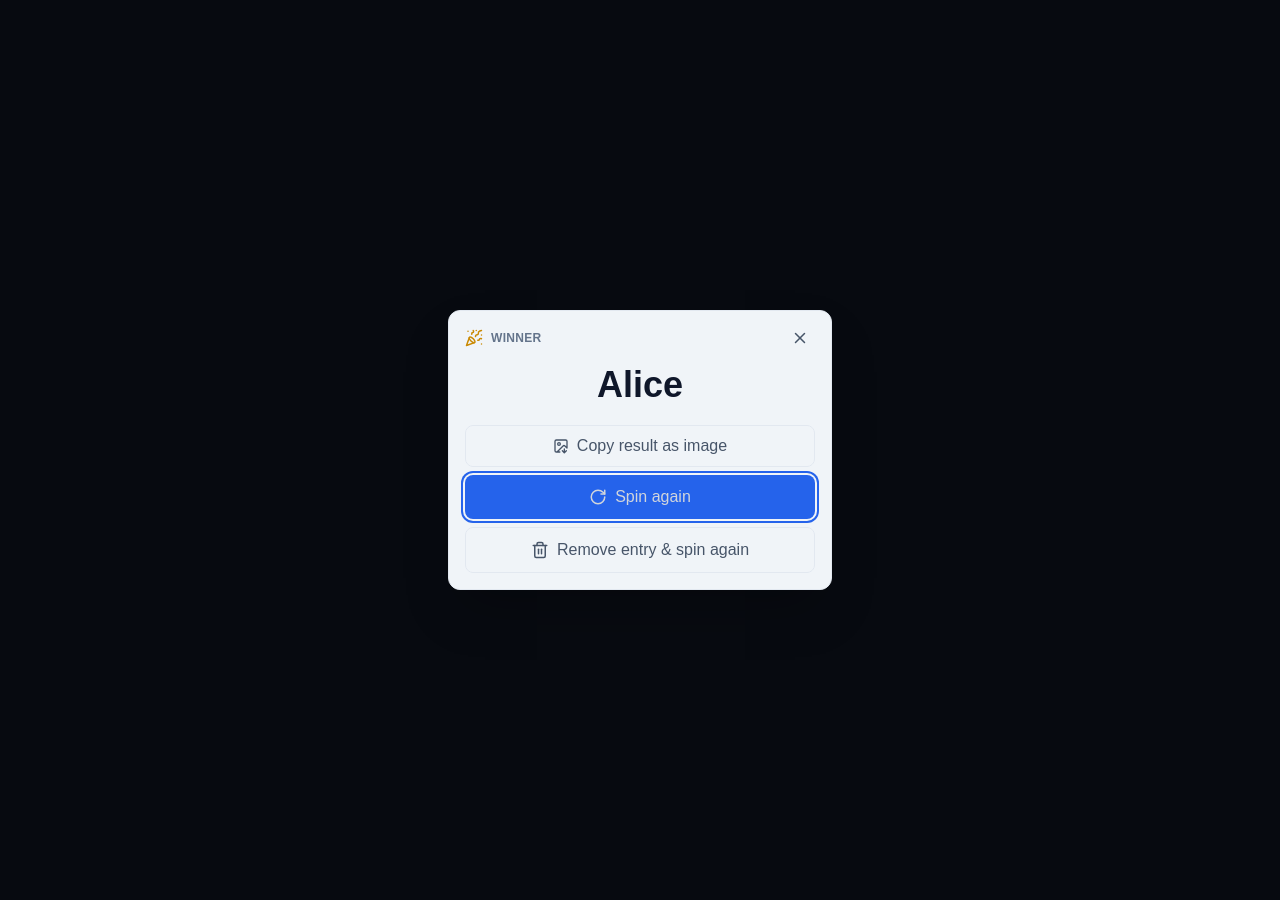
Test: WinnerModal › shows a failure message when the export fails
The width and height of the screenshot is (1280, 900).
Click the button "Copy result as image": (640, 446) x1=465 y1=425 x2=815 y2=467
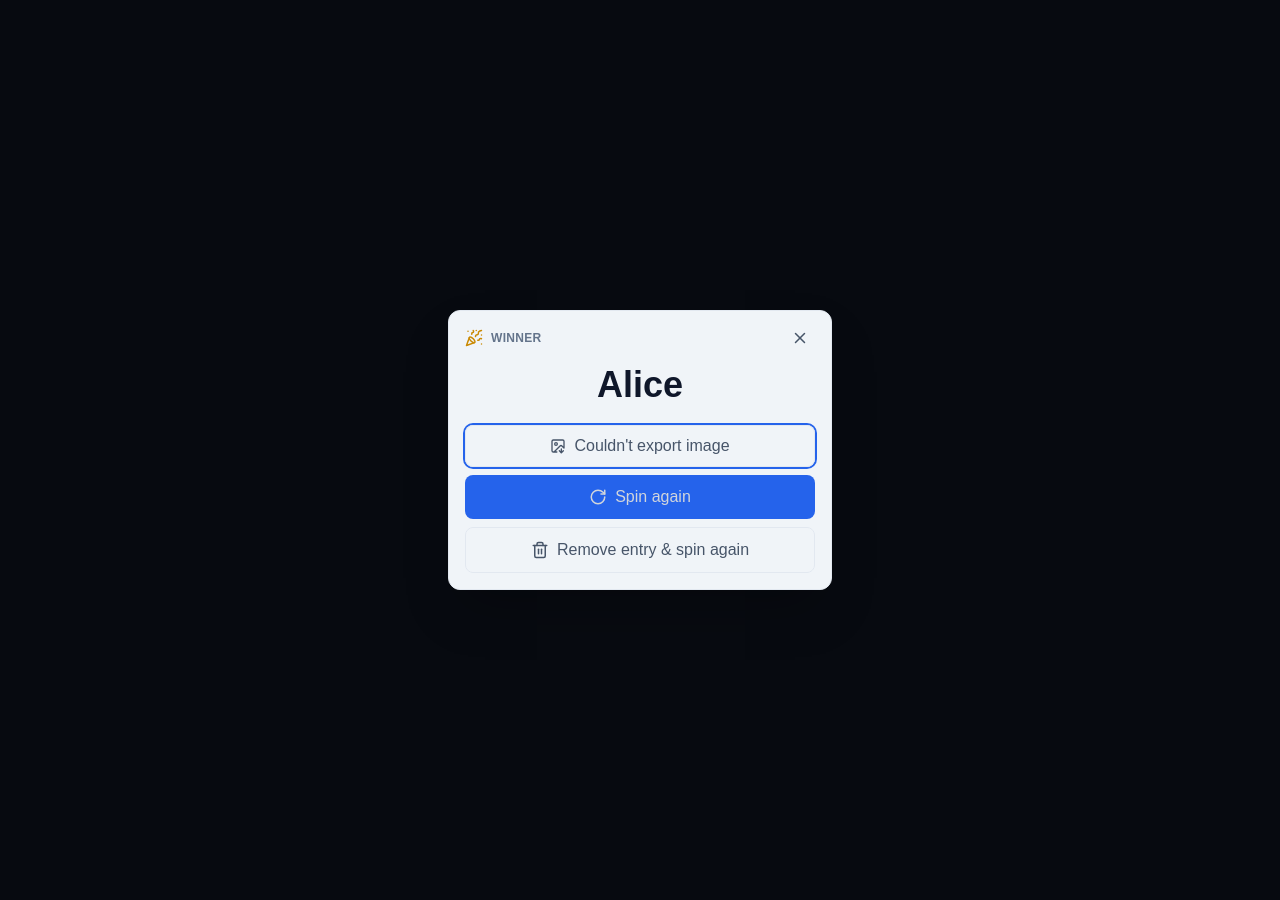
Expected: the button "Couldn't export image" is shown, x1=465 y1=425 x2=815 y2=467
